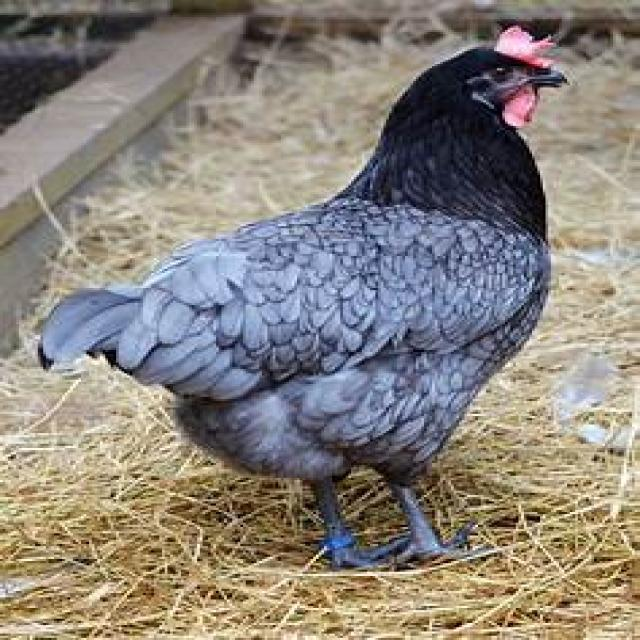hen: (41, 23, 564, 572)
